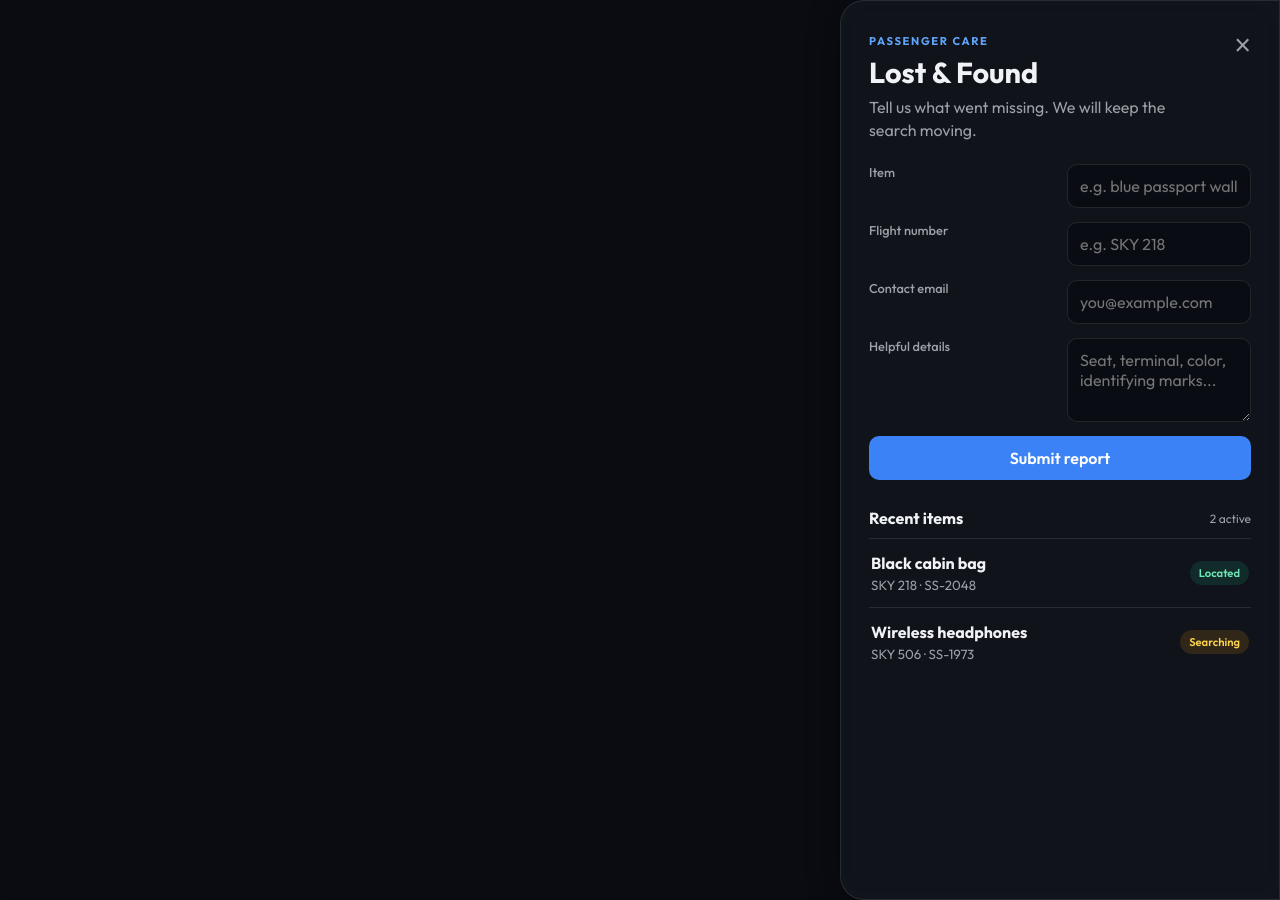
Test case: LostAndFound › shows tracking ID after valid form submission
In the field labelled "Item": (1159, 186) [1067, 164, 1251, 208], type "Blue passport wallet"
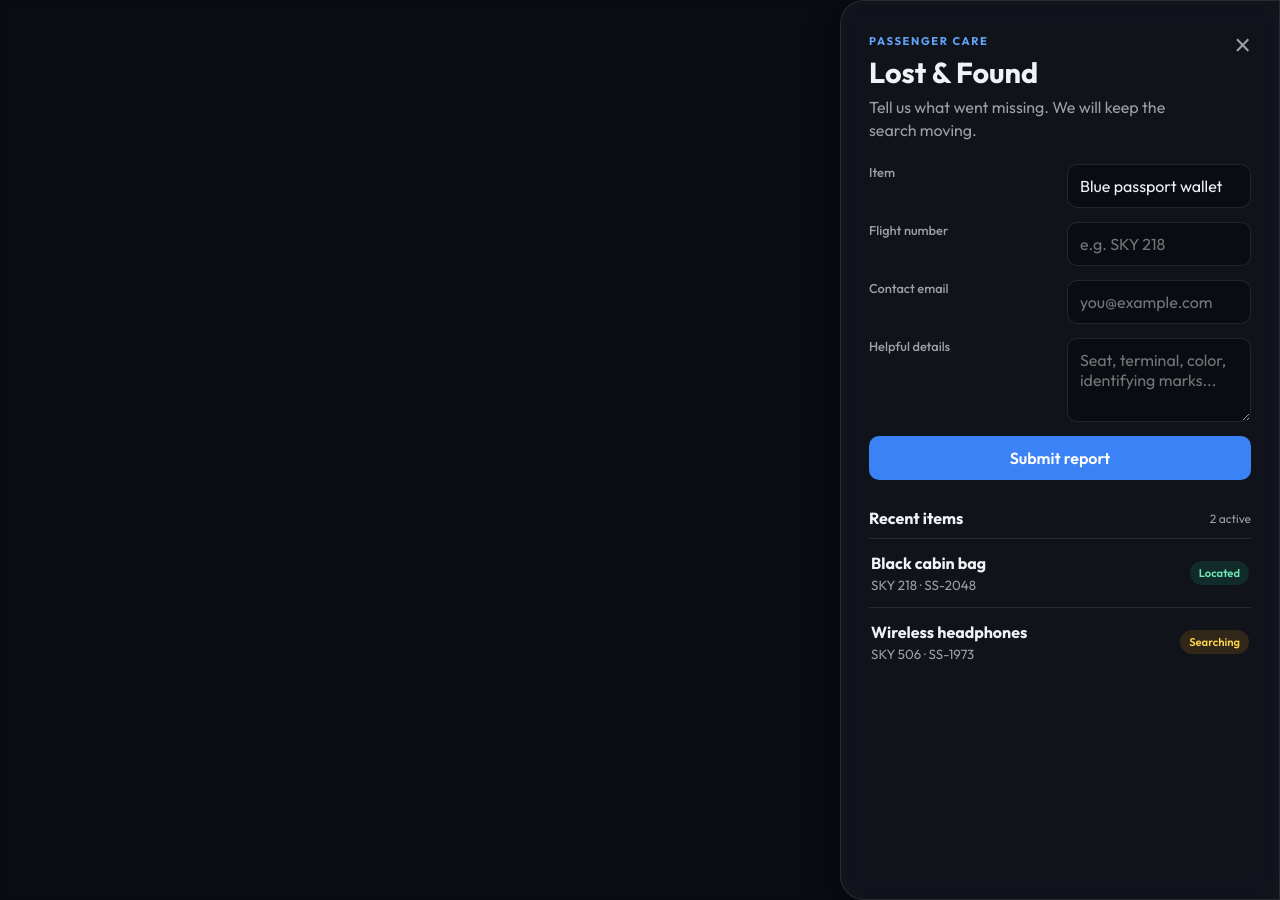
In the field labelled "Contact email": (1159, 302) [1067, 280, 1251, 324], type "test@example.com"
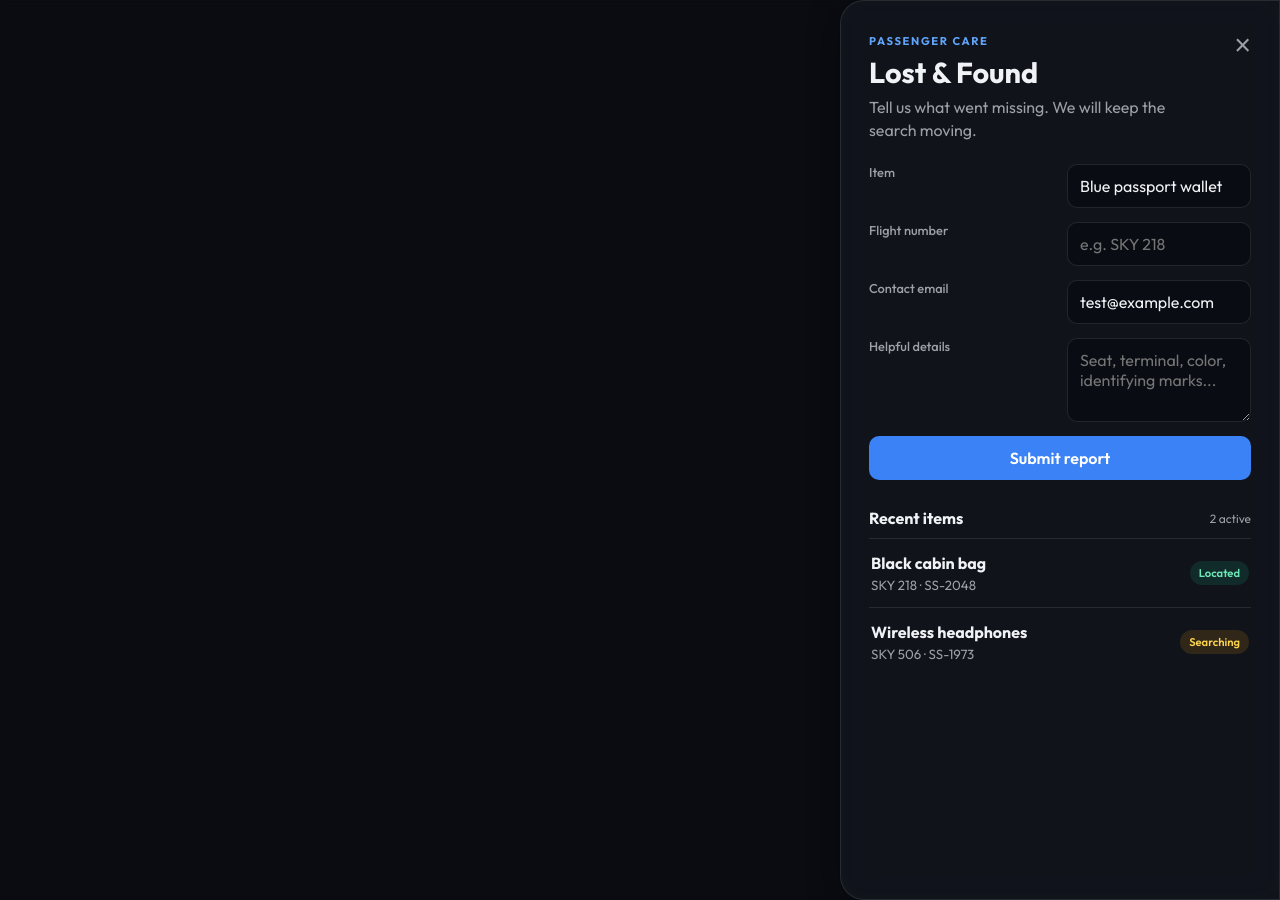
Click the button "Submit report": (1060, 458) [869, 436, 1251, 480]
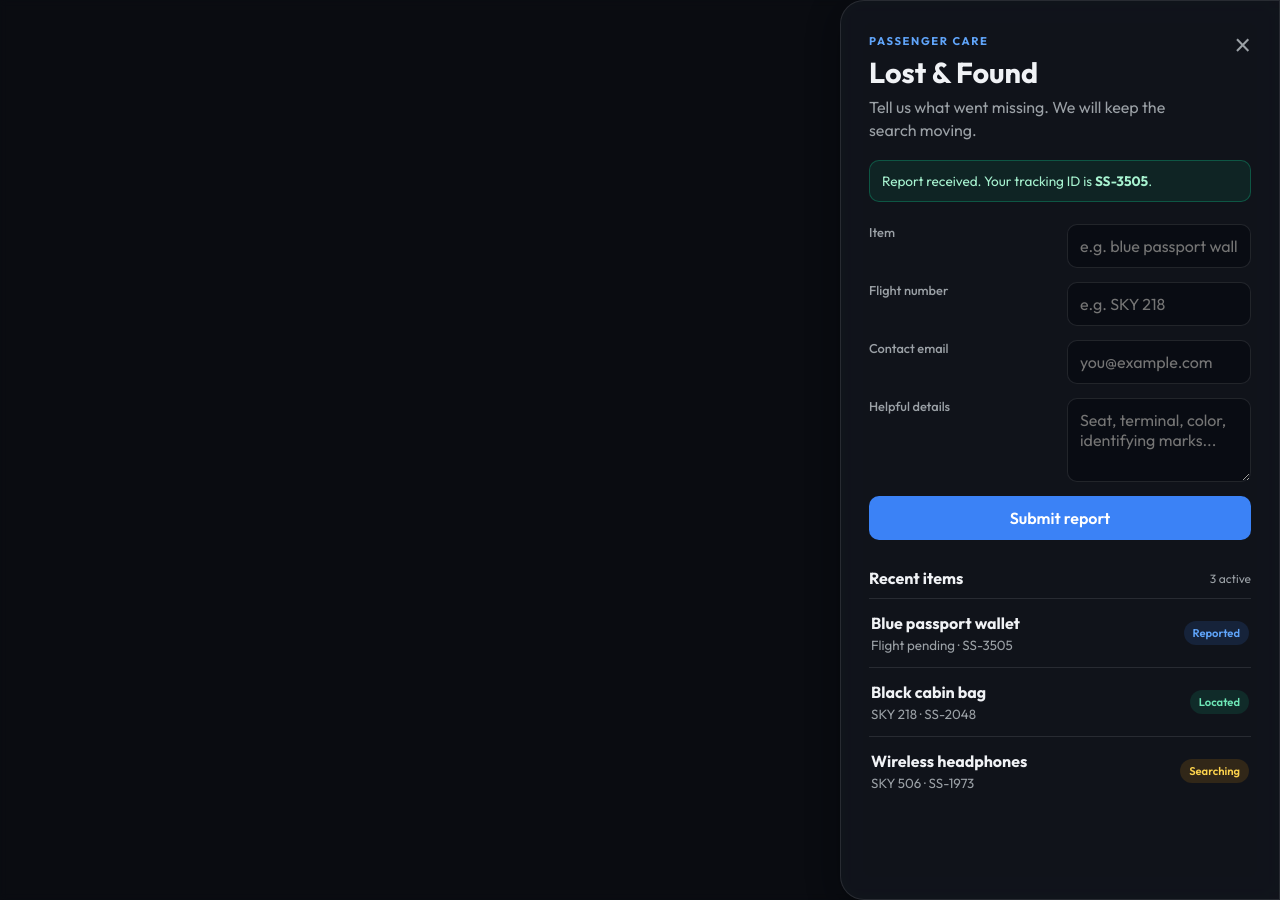
Expected: the text "Report received. Your tracking ID is SS-3505." is shown, [869, 160, 1251, 202]
